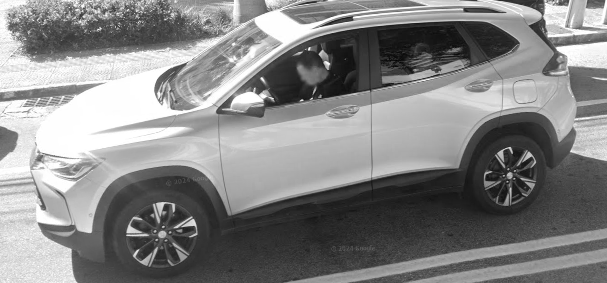car: (31, 1, 578, 279)
